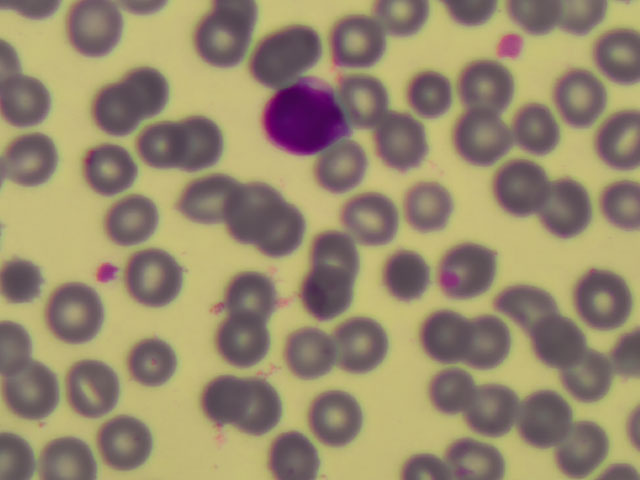Platelets: (491, 31, 530, 60), (93, 259, 122, 286)
RBC: (276, 419, 342, 480), (7, 128, 73, 188), (84, 87, 150, 147), (119, 68, 185, 128), (80, 144, 146, 204), (105, 192, 171, 252), (127, 252, 193, 312), (43, 283, 109, 343), (7, 357, 73, 417), (54, 353, 120, 413), (131, 333, 197, 393), (92, 414, 158, 474), (182, 362, 248, 422), (219, 378, 285, 438), (211, 316, 277, 376), (226, 258, 292, 318), (263, 205, 329, 265), (221, 181, 287, 241), (175, 168, 241, 228), (177, 116, 243, 176), (131, 113, 197, 173), (318, 140, 384, 200), (340, 184, 406, 244), (311, 221, 377, 281), (291, 264, 357, 324), (276, 325, 342, 385), (340, 316, 406, 376), (303, 381, 369, 441), (459, 374, 525, 434), (419, 359, 485, 419), (464, 309, 530, 369), (416, 309, 482, 369), (438, 241, 504, 301), (378, 246, 444, 306), (403, 173, 469, 233), (377, 111, 443, 171), (339, 70, 405, 130), (328, 11, 394, 71), (253, 22, 319, 82), (198, 9, 264, 69), (464, 56, 530, 116), (405, 61, 471, 121), (447, 108, 513, 168), (490, 97, 556, 157), (499, 151, 565, 211), (534, 184, 600, 244), (544, 71, 610, 131), (574, 29, 640, 89), (574, 264, 640, 324), (529, 309, 595, 369), (497, 274, 563, 334), (549, 343, 615, 403), (510, 387, 576, 447), (543, 415, 609, 475), (1, 73, 66, 133), (64, 1, 130, 60)
WBC: (264, 74, 346, 162)
